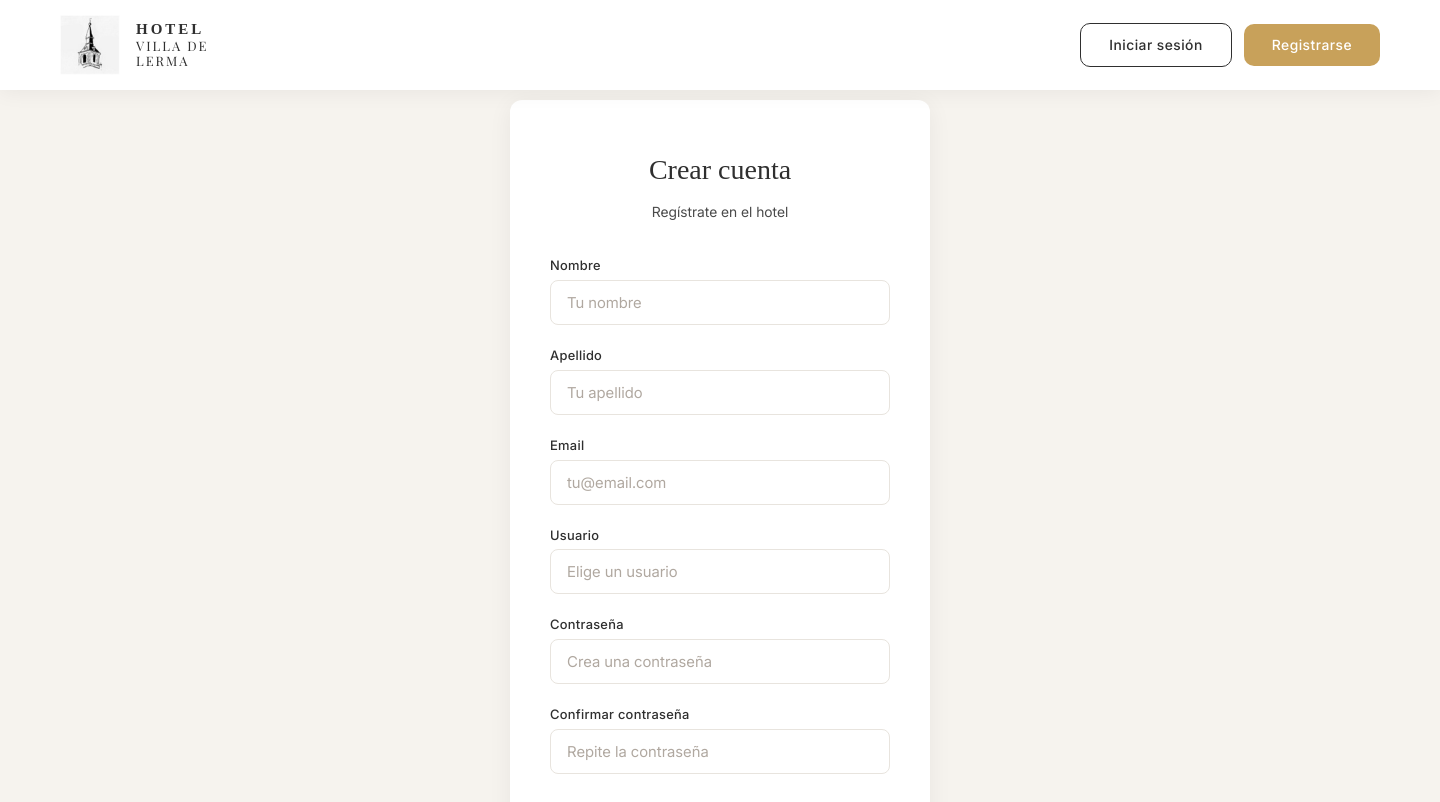
Register › error del servidor muestra mensaje
In the field labelled "Nombre": point(720, 302) [550,280,890,325], type "Ana"
In the field labelled "Apellido": point(720, 392) [550,370,890,415], type "Perez"
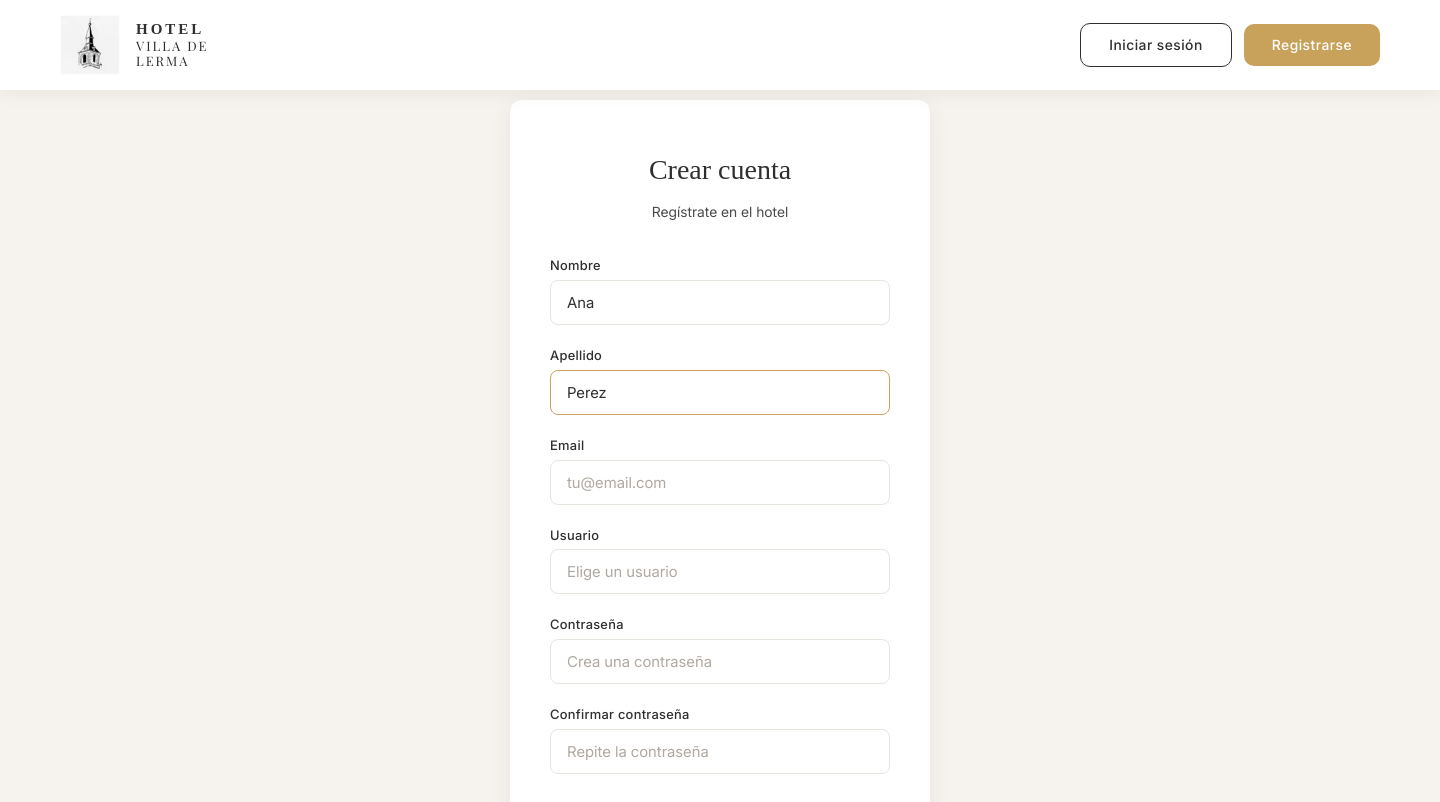
In the field labelled "Email": point(720, 482) [550,460,890,505], type "ana@test.es"
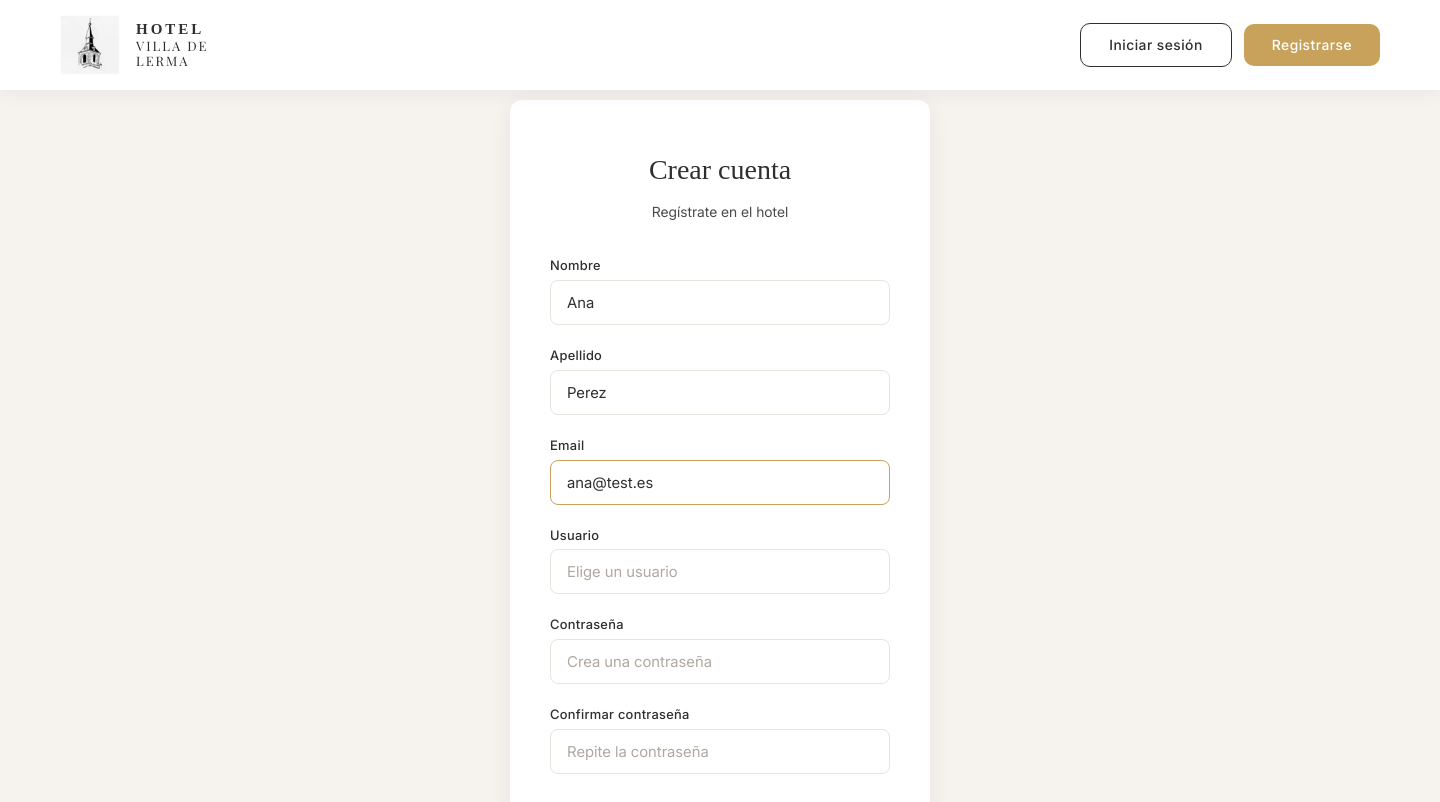
In the field labelled "Usuario": point(720, 572) [550,549,890,594], type "duplicado"
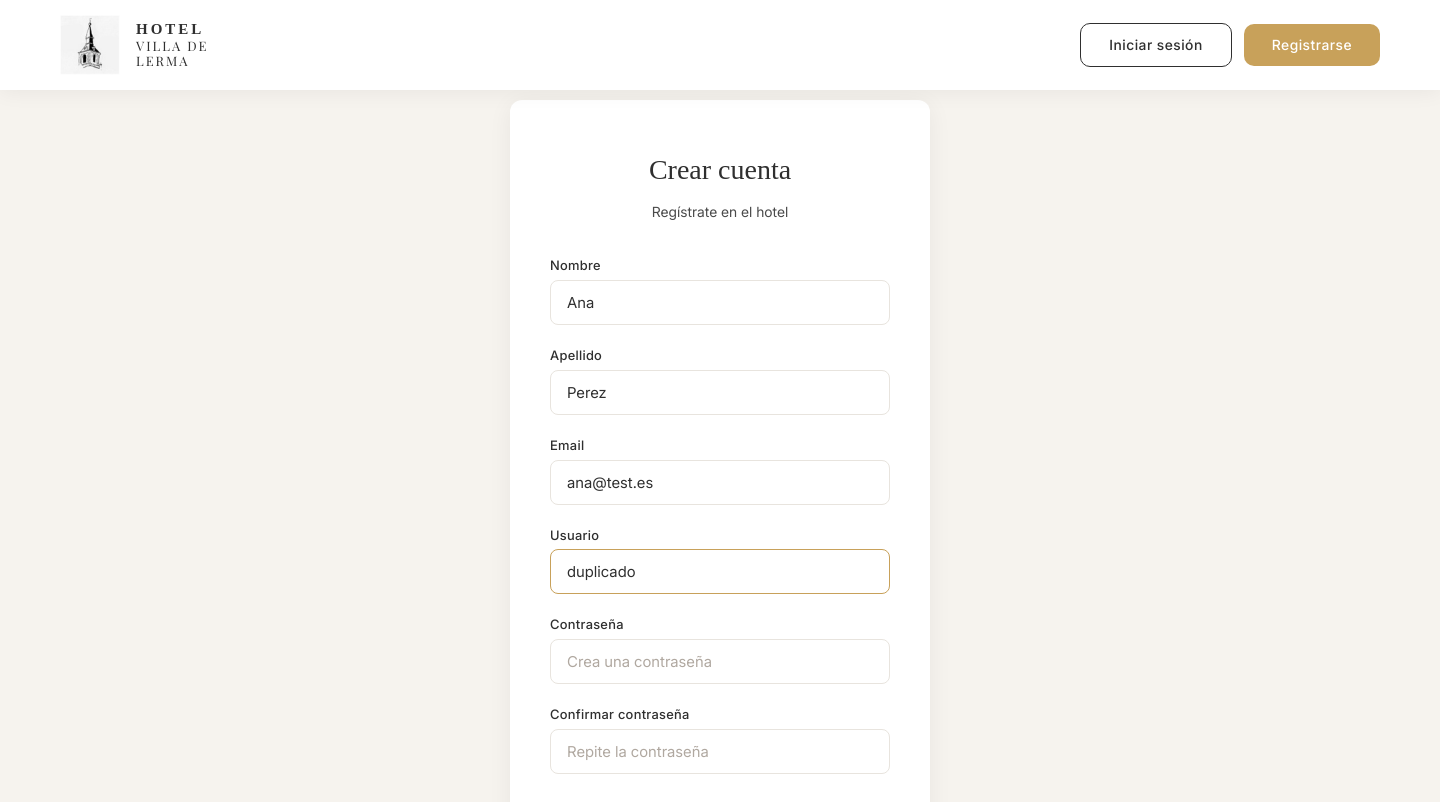
In the password field labelled "Contraseña": point(720, 662) [550,639,890,684], type "clave123"
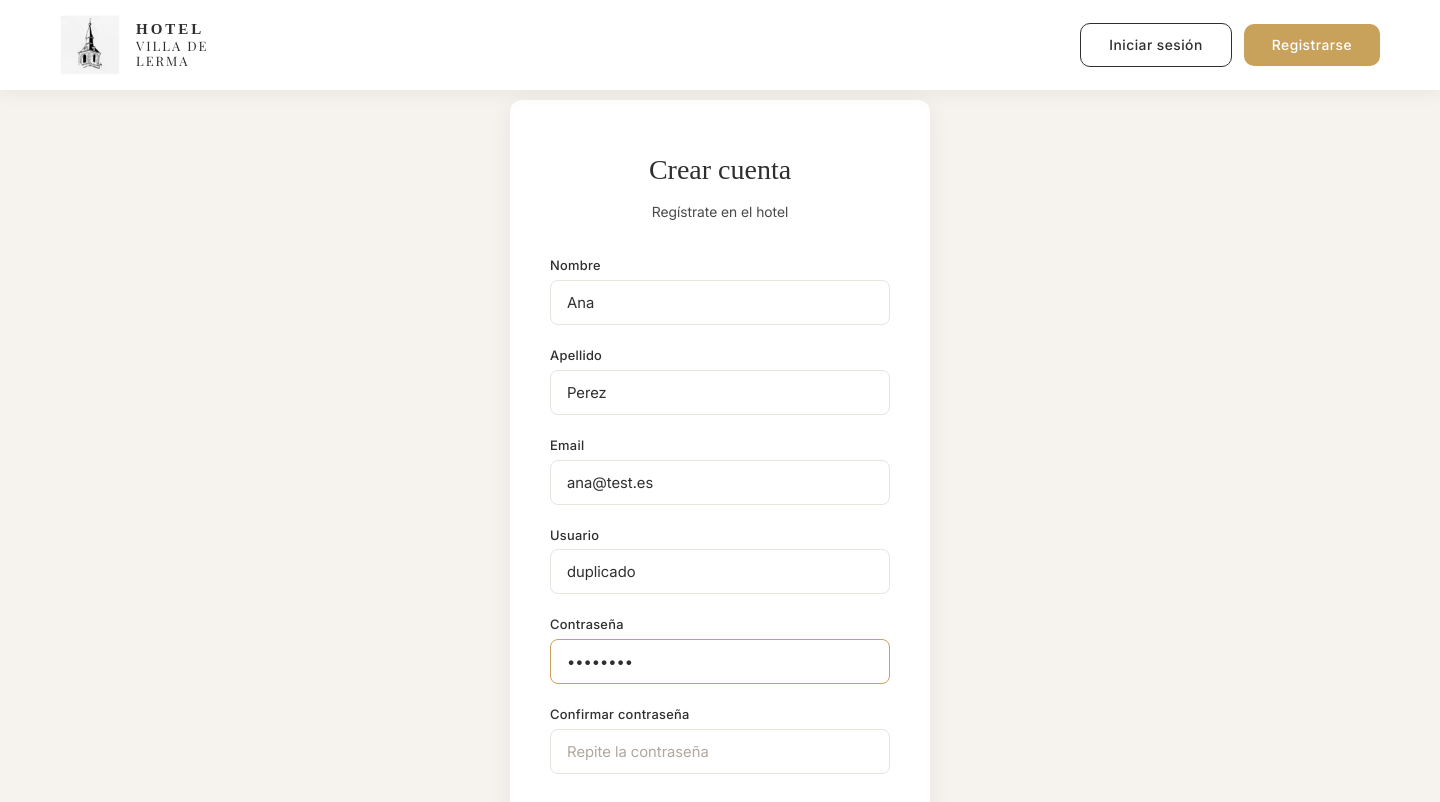
In the password field labelled "Confirmar contraseña": point(720, 752) [550,729,890,774], type "clave123"
(page scrolled)
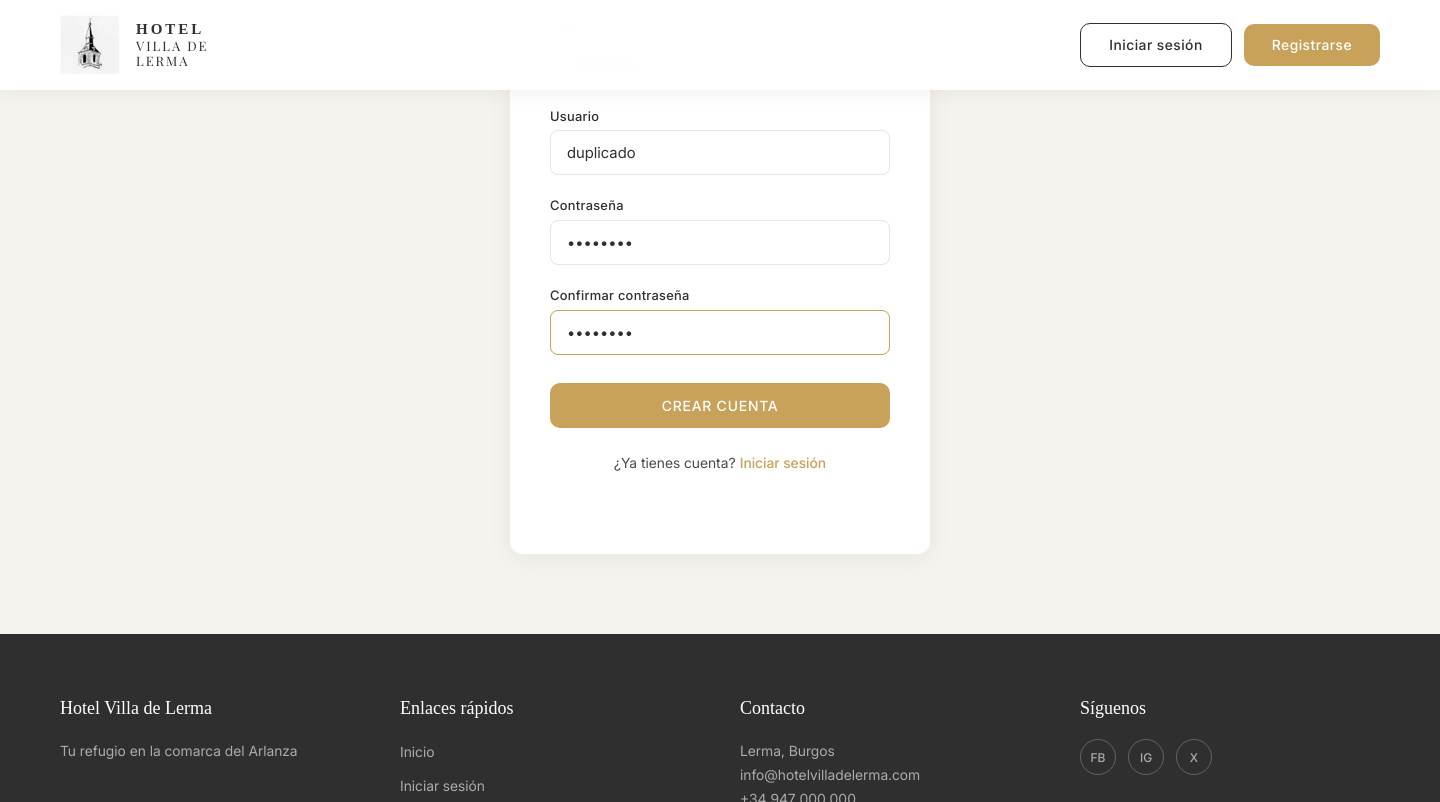
Click the button "Crear cuenta": point(720, 406) [550,383,890,428]
(page scrolled)
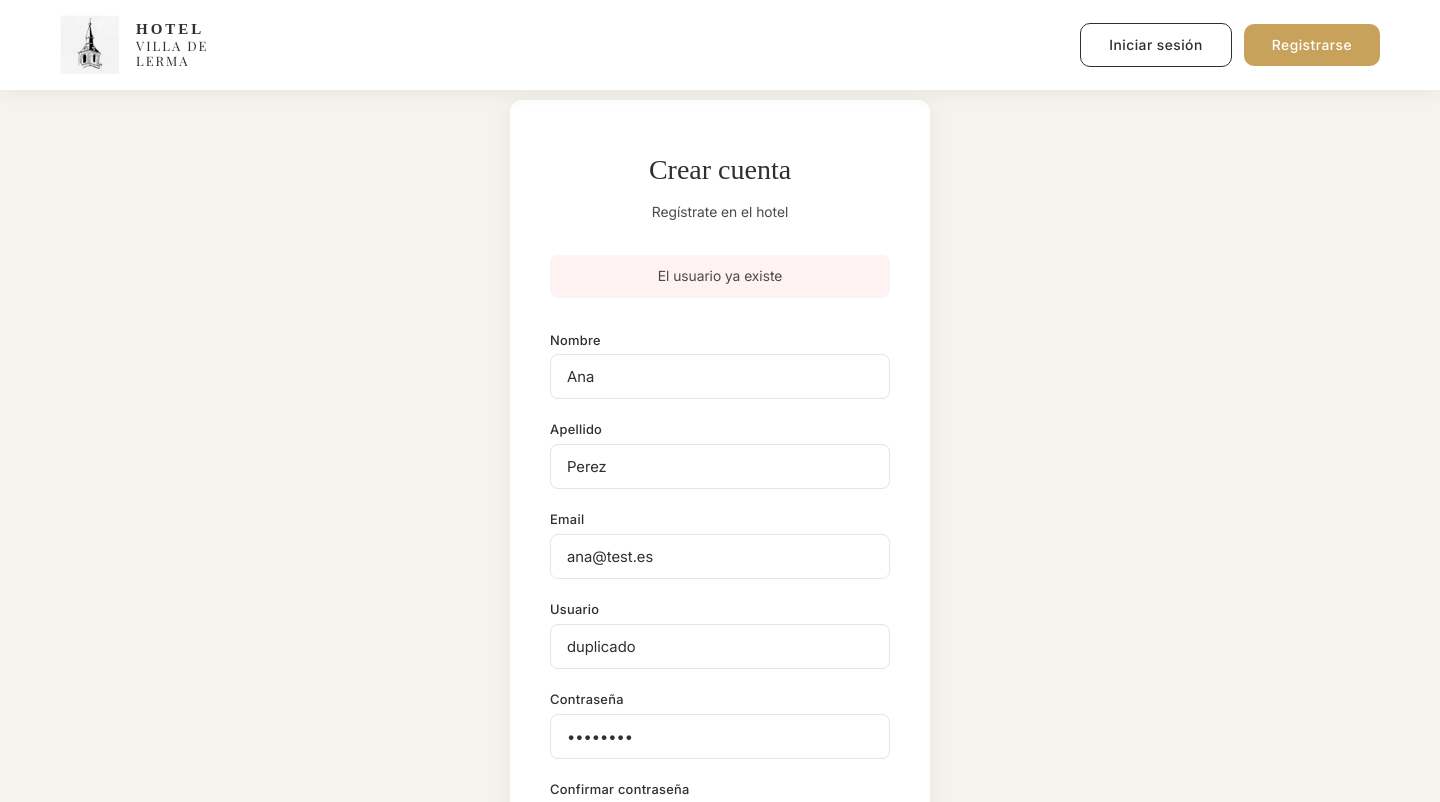
Check: the text "El usuario ya existe" is shown, box [550,255,890,298]
